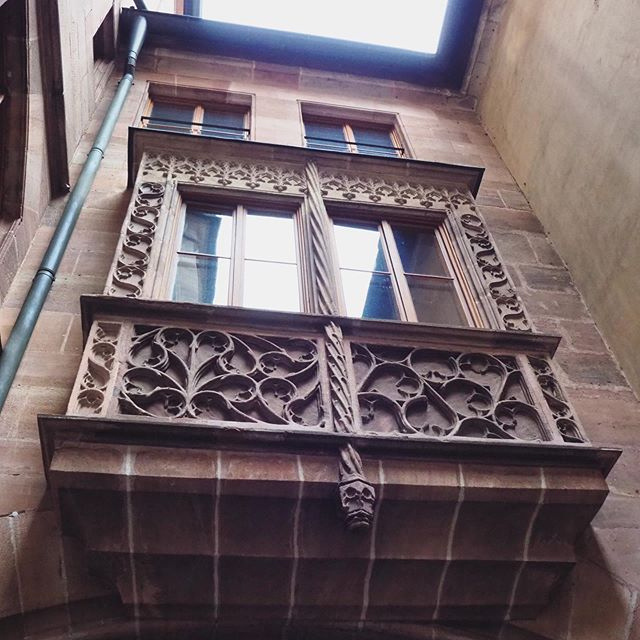building: (1, 1, 640, 640)
window: (328, 190, 489, 328), (171, 179, 307, 321), (300, 101, 413, 159), (140, 83, 253, 141)
